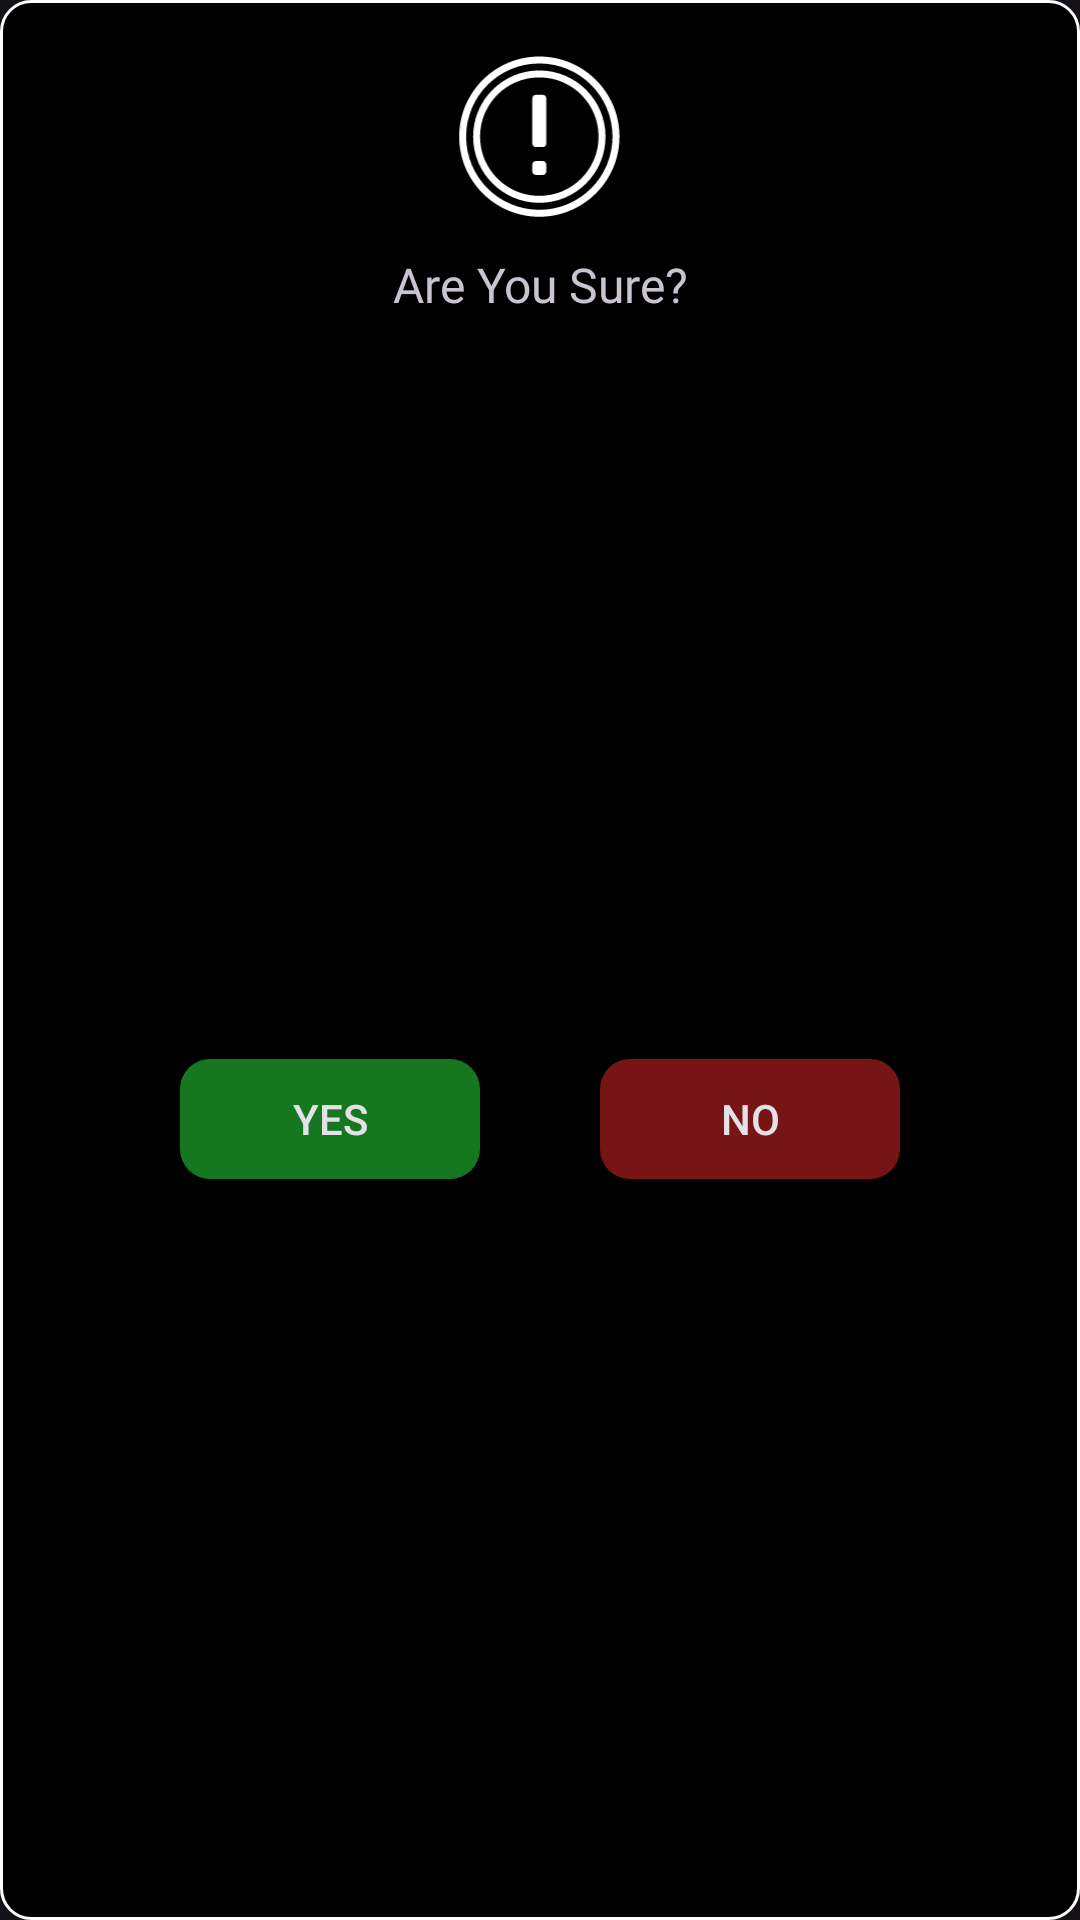

Named icons in this screenshot (1080px x 1920px) and their centers, [x,y]:
warning: [539,136]
